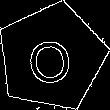O_N: (26, 29, 77, 85)
